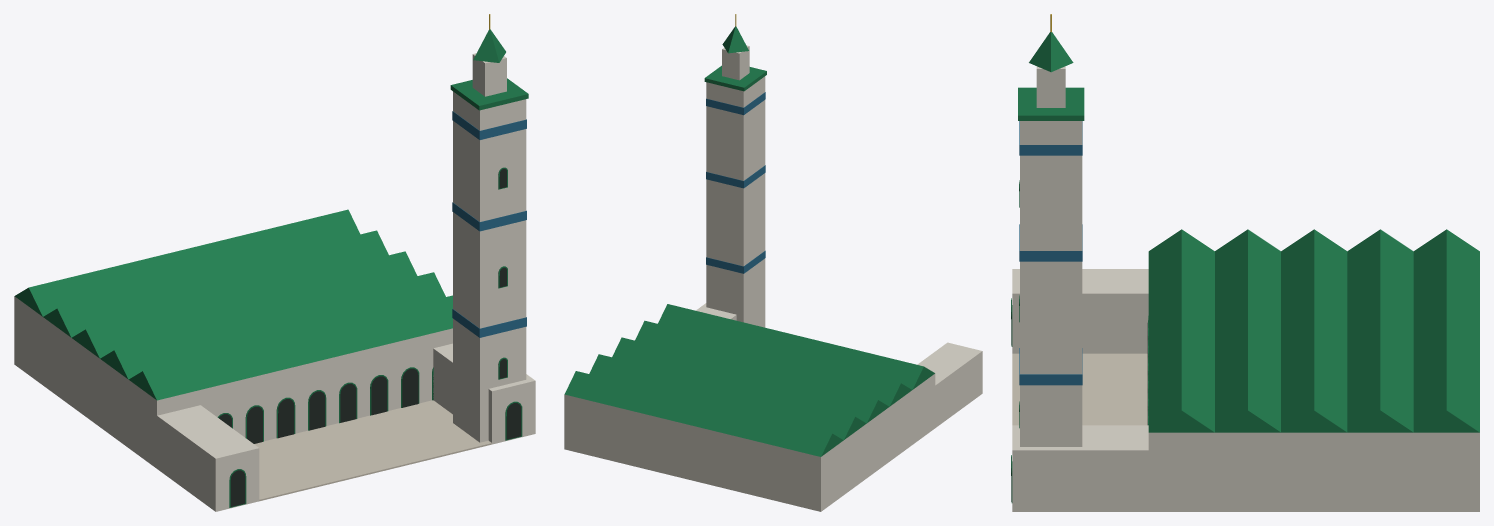
Rendered from mosquee_grande.glb.
3 views of the same model, side by side, from view 1: azimuth 30°, elevation 25°; view 2: azimuth 150°, elevation 25°; view 3: azimuth 270°, elevation 25° (orthographic). The views are drawn at different scales.
Parts seen in each view (by area): view 1: mosquee_grande; view 2: mosquee_grande; view 3: mosquee_grande.
Boxes of the visible parts, box(x1,y1,x2,y2) form: mosquee_grande: box(14, 14, 535, 511); mosquee_grande: box(564, 14, 982, 511); mosquee_grande: box(1011, 14, 1479, 511).
Bounding box in the file's own units: 44 × 54.5 × 48.1.
